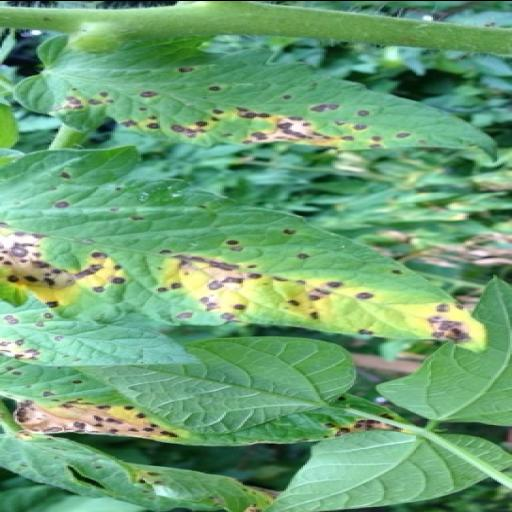disease_tomato: (2, 174, 491, 352), (19, 30, 499, 152), (0, 432, 282, 512), (0, 296, 202, 370)
